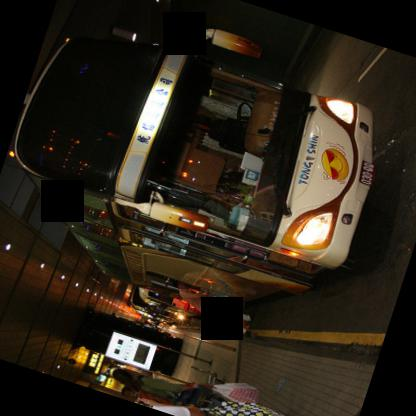handbag: (197, 400, 286, 416), (169, 381, 212, 406), (212, 381, 260, 402)
suitcase: (202, 287, 246, 311)
